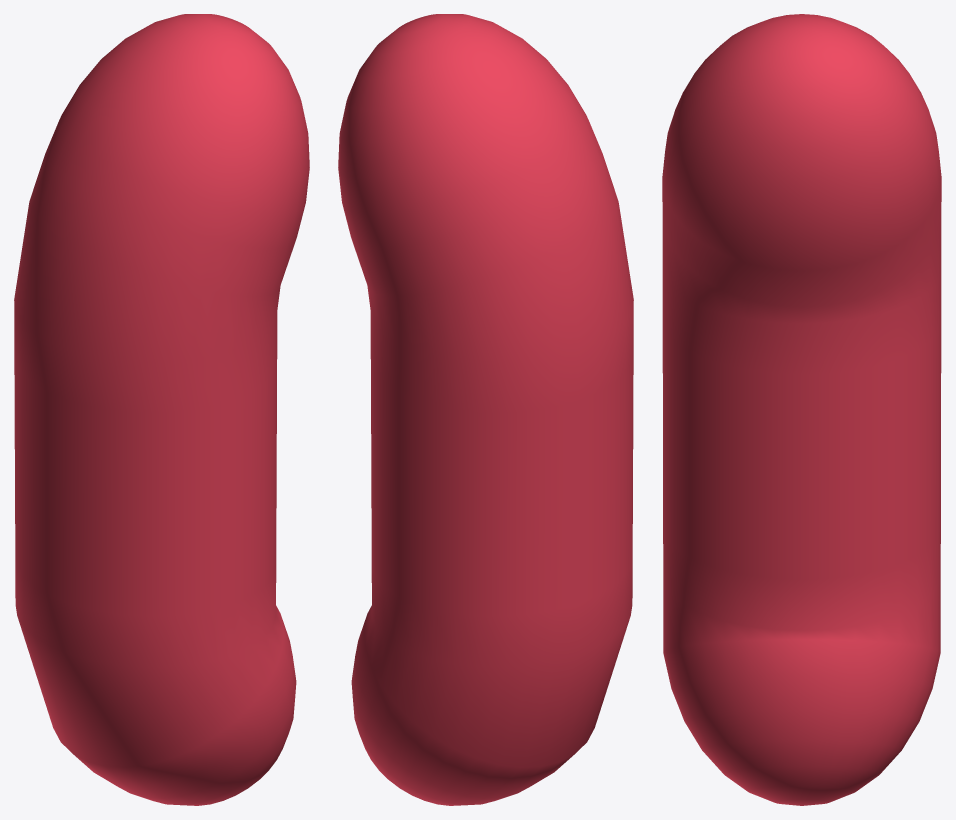
File: hervido.fbx
The picture shows the model from 3 angles, left to right: view 1: azimuth 30°, elevation 25°; view 2: azimuth 150°, elevation 25°; view 3: azimuth 270°, elevation 25°; orthographic projection.
Visible parts, largest first — view 1: Esfera; view 2: Esfera; view 3: Esfera.
Boxes of the visible parts, x1=… form: Esfera: x1=14, y1=14, x2=309, y2=805; Esfera: x1=338, y1=14, x2=633, y2=805; Esfera: x1=662, y1=14, x2=941, y2=805.
Size of the model in its own units: 337 by 964 by 314.
